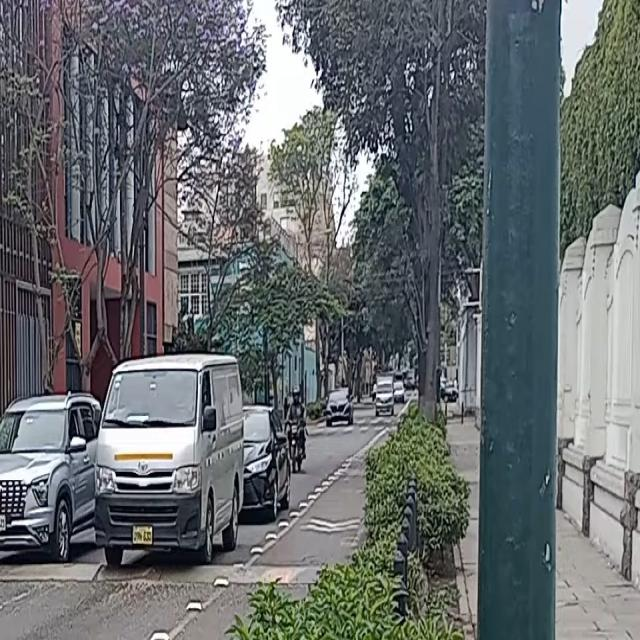car: (94, 354, 245, 570), (0, 391, 105, 563), (240, 407, 292, 507), (326, 388, 353, 426), (376, 371, 396, 413), (394, 378, 406, 401)
motorcycle: (284, 416, 306, 469)
